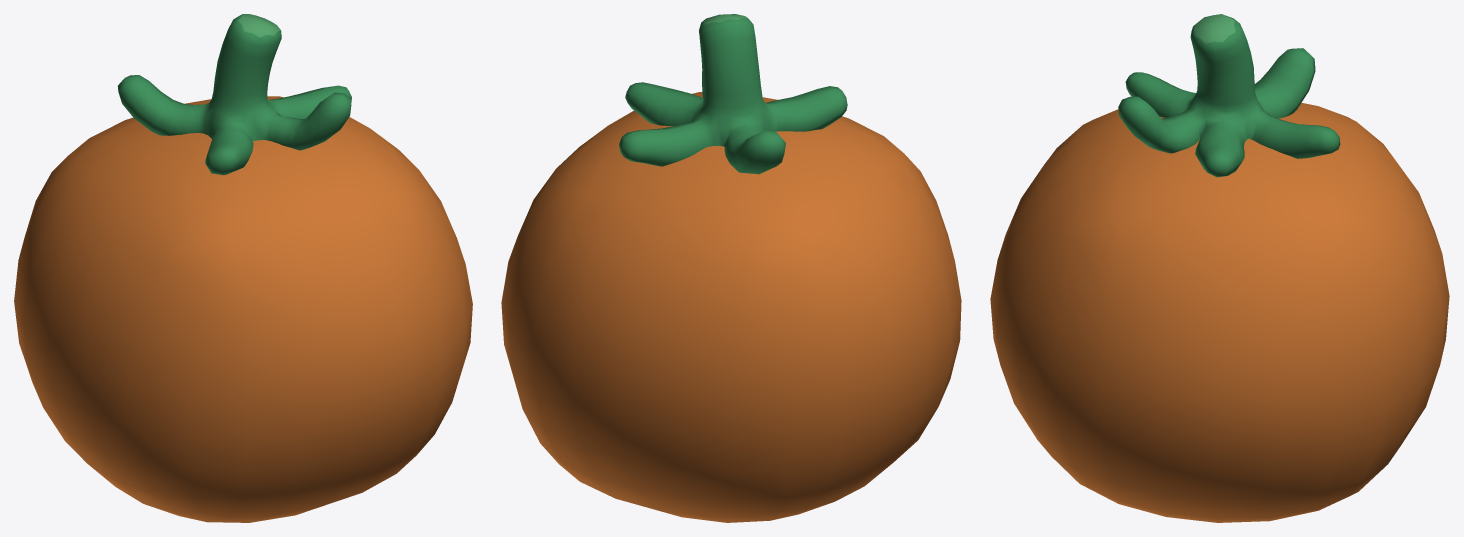
Rendered from Tomato_02.dae.
3 renders of one model, left to right at view 1: azimuth 30°, elevation 25°; view 2: azimuth 150°, elevation 25°; view 3: azimuth 270°, elevation 25°, orthographic.
Visible parts, largest first — view 1: Tomato_02_LOD0; view 2: Tomato_02_LOD0; view 3: Tomato_02_LOD0.
Part boxes in pixels (box(x1,y1,x2,y2)): Tomato_02_LOD0: box(14, 14, 472, 522); Tomato_02_LOD0: box(501, 14, 961, 522); Tomato_02_LOD0: box(990, 14, 1449, 522).
Size of what is drawn, in the model's own units: 3.96 by 3.97 by 4.58.
